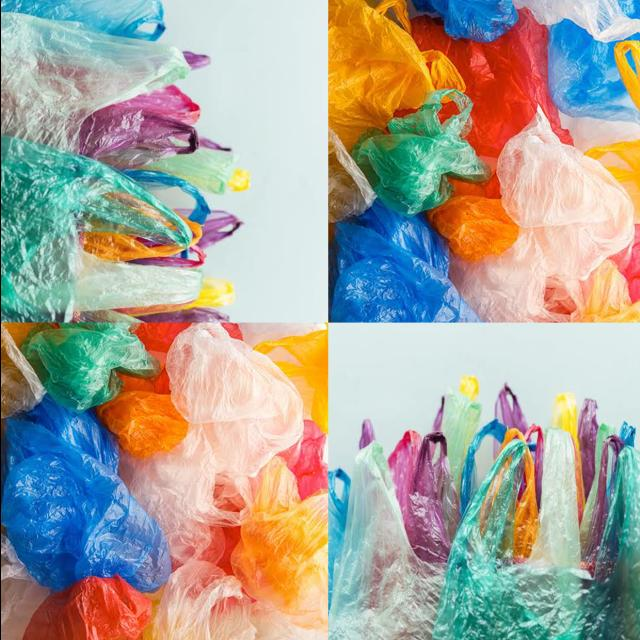plastik: (119, 323, 303, 564), (431, 441, 640, 640), (450, 110, 633, 321), (0, 136, 190, 321), (0, 397, 170, 592), (0, 13, 189, 151), (410, 9, 571, 157), (327, 441, 443, 640), (328, 0, 464, 148), (329, 200, 477, 323), (351, 89, 490, 215), (230, 455, 327, 630), (143, 560, 326, 640), (21, 324, 159, 413), (78, 85, 199, 169), (547, 19, 640, 123), (388, 431, 459, 563), (21, 575, 150, 640), (425, 173, 517, 262), (73, 249, 201, 311), (526, 428, 580, 568), (254, 329, 327, 432), (0, 0, 165, 41), (95, 391, 188, 458), (513, 0, 640, 43), (0, 534, 49, 640), (327, 128, 375, 223), (411, 0, 517, 43), (584, 138, 640, 219), (572, 259, 640, 323), (279, 419, 327, 499), (610, 225, 640, 303), (614, 40, 640, 113), (615, 0, 640, 19)
